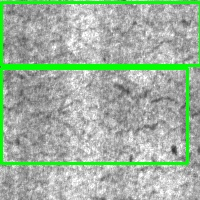crazing: (1, 68, 187, 163), (1, 2, 200, 65)
